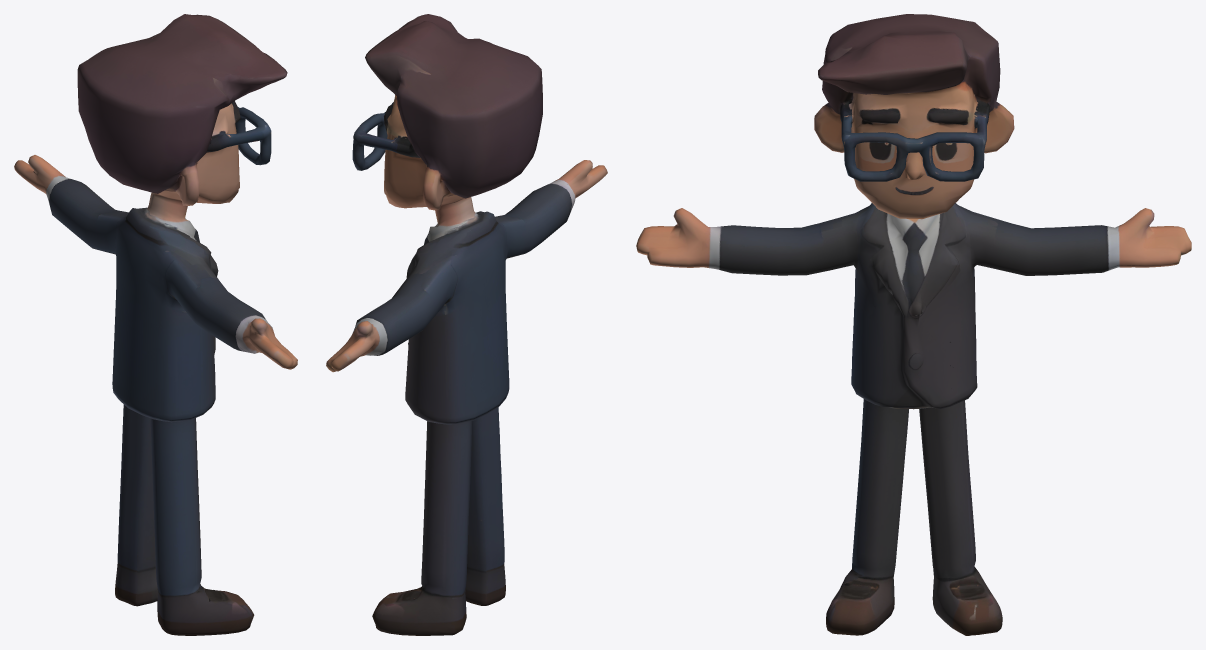
File: SM_Chr_KnowledgeCitizen_01.glb
The picture shows the model from 3 angles, left to right: view 1: azimuth 30°, elevation 25°; view 2: azimuth 150°, elevation 25°; view 3: azimuth 270°, elevation 25°; orthographic projection. The views are drawn at different scales.
Parts seen in each view (by area): view 1: tripo_node_ab251232; view 2: tripo_node_ab251232; view 3: tripo_node_ab251232.
Boxes of the visible parts, <box> form: tripo_node_ab251232: <box>14,14,297,635</box>; tripo_node_ab251232: <box>326,14,607,635</box>; tripo_node_ab251232: <box>636,14,1191,635</box>.
Size of the model in its own units: 27.43 by 99.72 by 83.87.
Materials: 1 (1 with a texture image).
